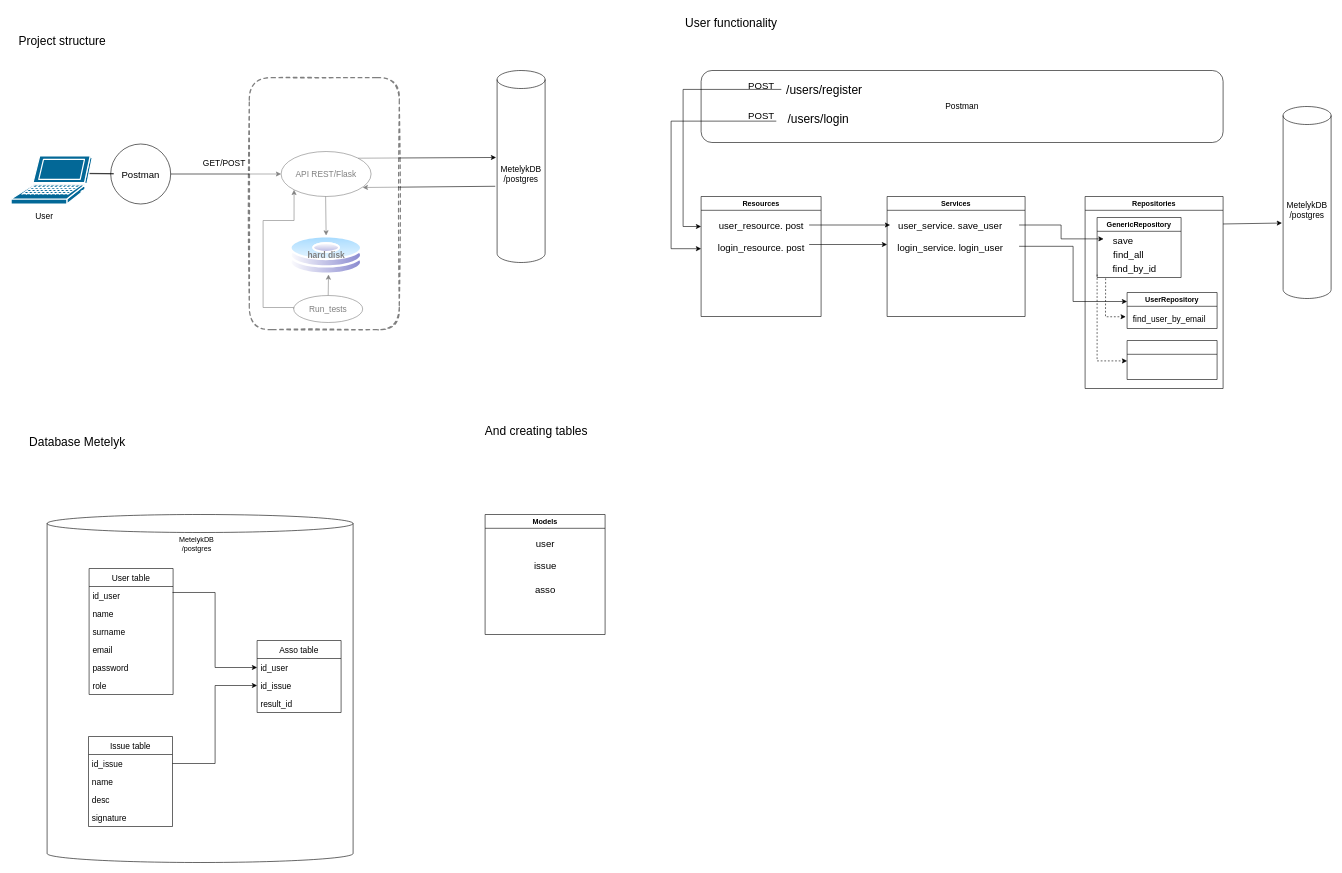
Some shapes in this 1342 by 873 pixel diagram are drawn without their labels. The shapes that lost their labels are listed below. From the top down, each one's centre as x and y in pixels, then its label:
At (324,203): "Docker".
At (1171,360): "MockRepository".
